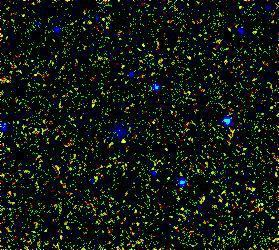star: (111, 127, 141, 157)
